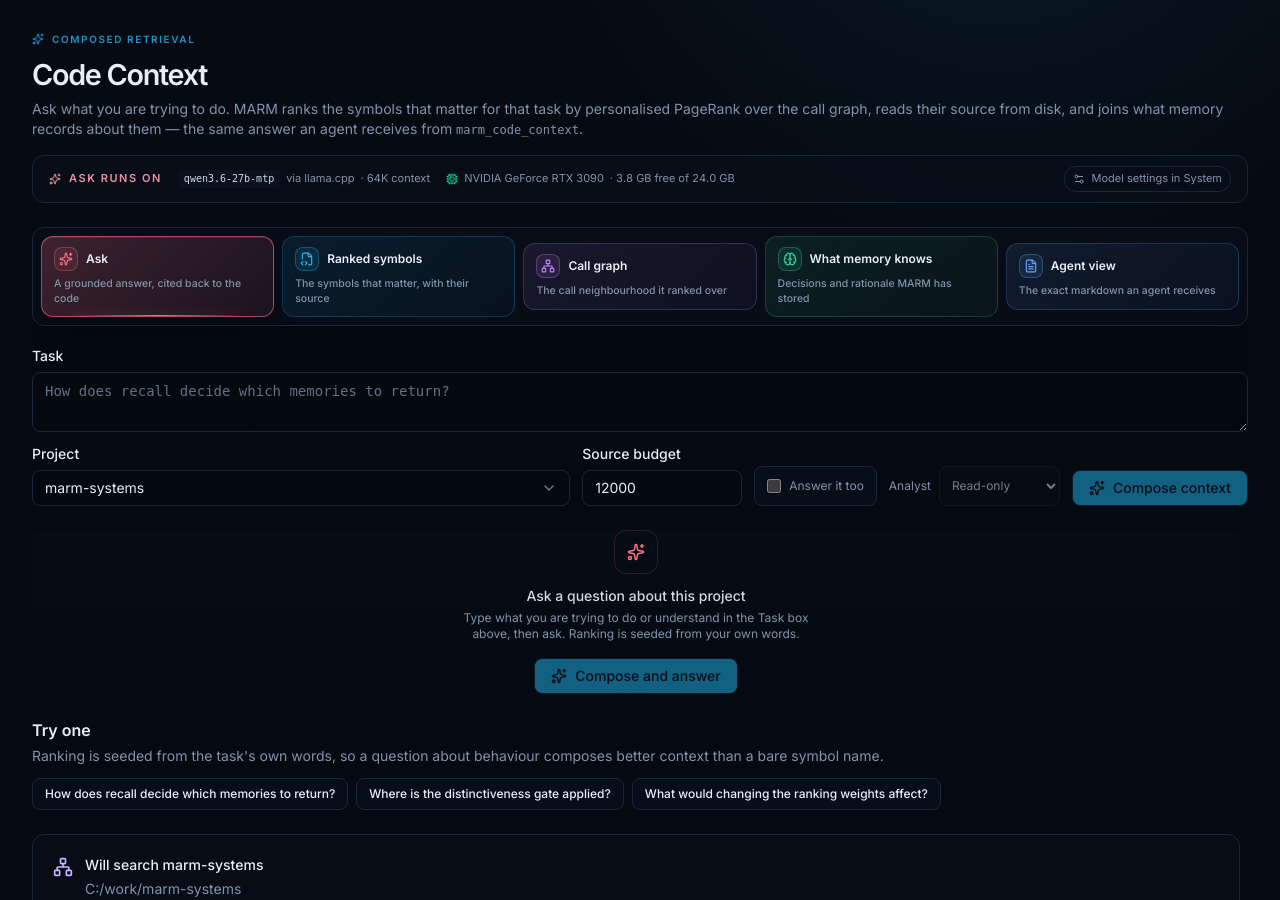
Test: CodeContextPage › a pane selected before a composition previews what it will show
Click the tab "Call graph The call neighbourhood it ranked over" at (640, 276), box [523,243,757,310]
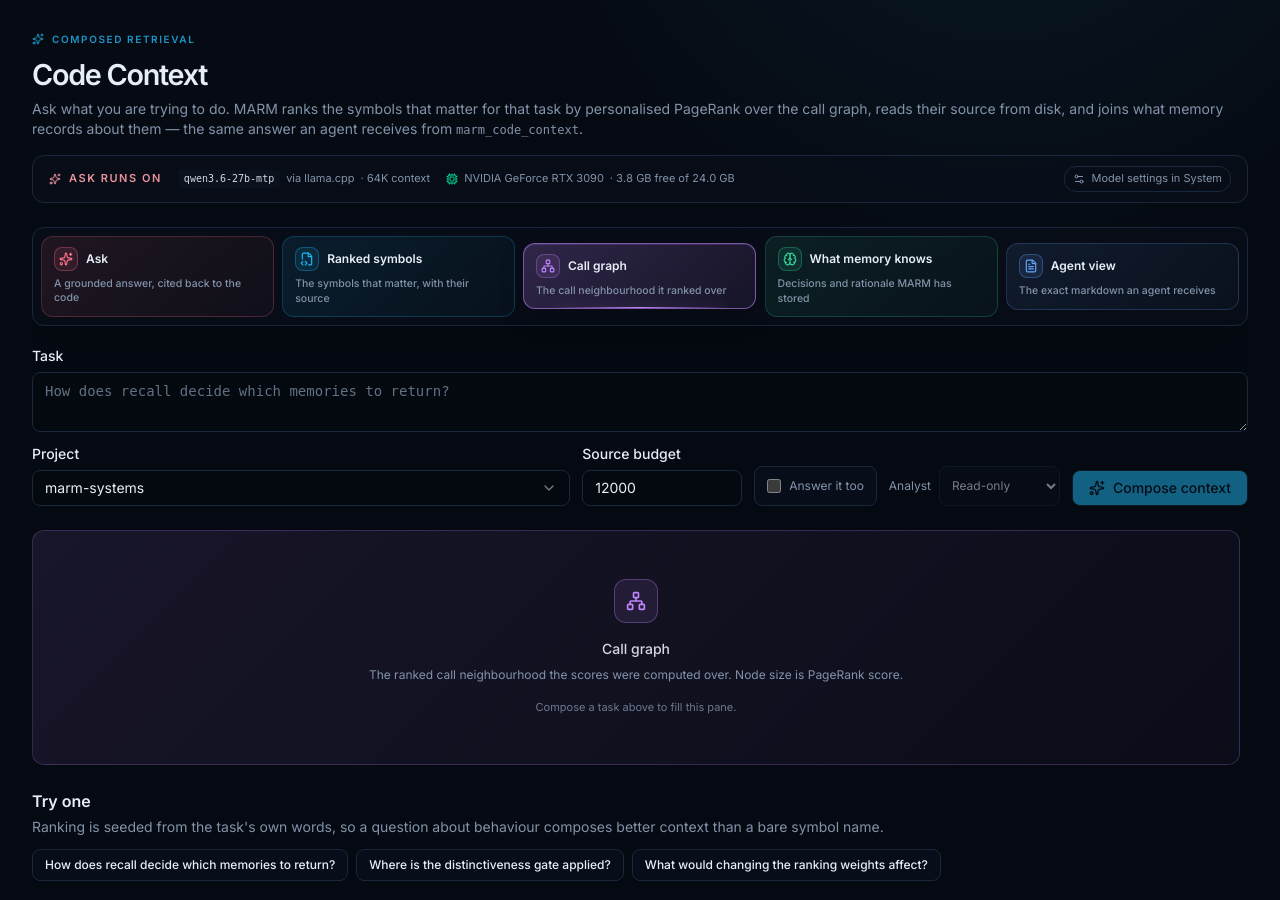
expect the text "Compose a task above to fill this pane." is shown: met, box [536,700,736,716]
expect the text "The ranked call neighbourhood the scores were computed over" is shown: met, box [369,667,903,682]
